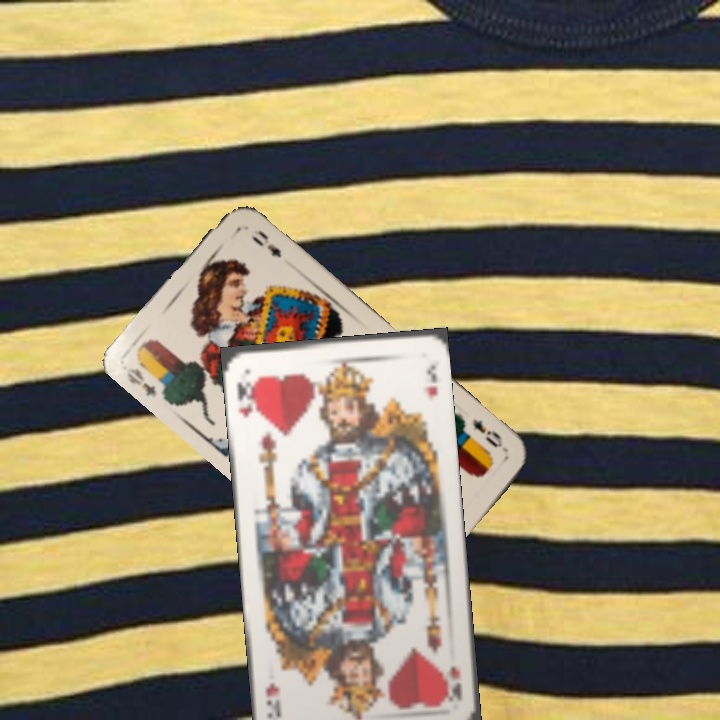EO: (468, 414, 510, 454), (122, 363, 159, 400)
HK: (232, 377, 259, 419), (442, 662, 465, 702)
